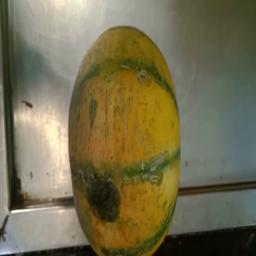Melon Semirotten: (66, 22, 183, 256)
